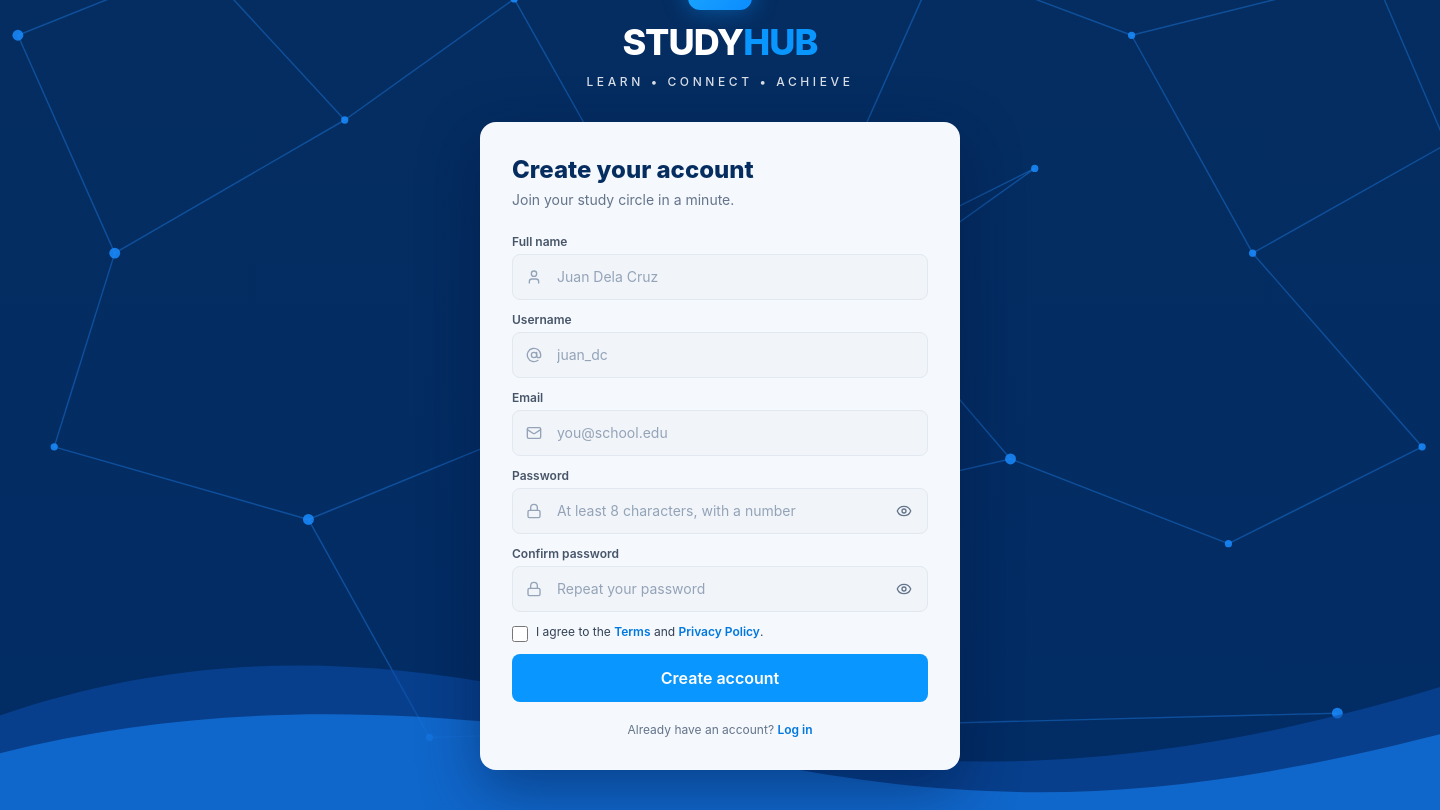
register form shows validation errors on empty submit
The width and height of the screenshot is (1440, 810).
(page scrolled)
Click the button "Create account". click: (720, 678)
box: x1=512 y1=654 x2=928 y2=702
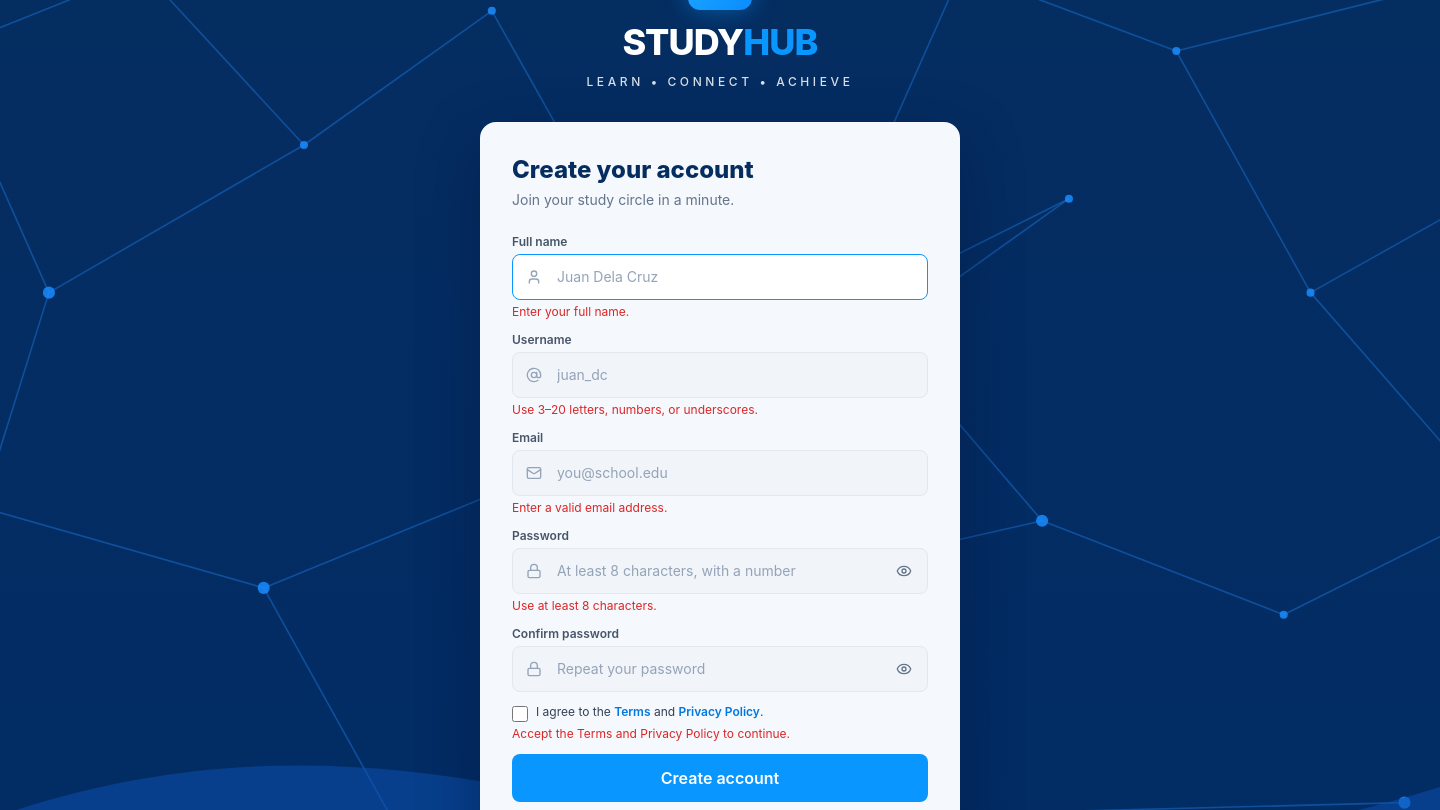
Now the text "Enter your full name." is shown, box x1=512 y1=304 x2=629 y2=319
Now the text "Accept the Terms and Privacy Policy to continue." is shown, box x1=512 y1=726 x2=790 y2=741
